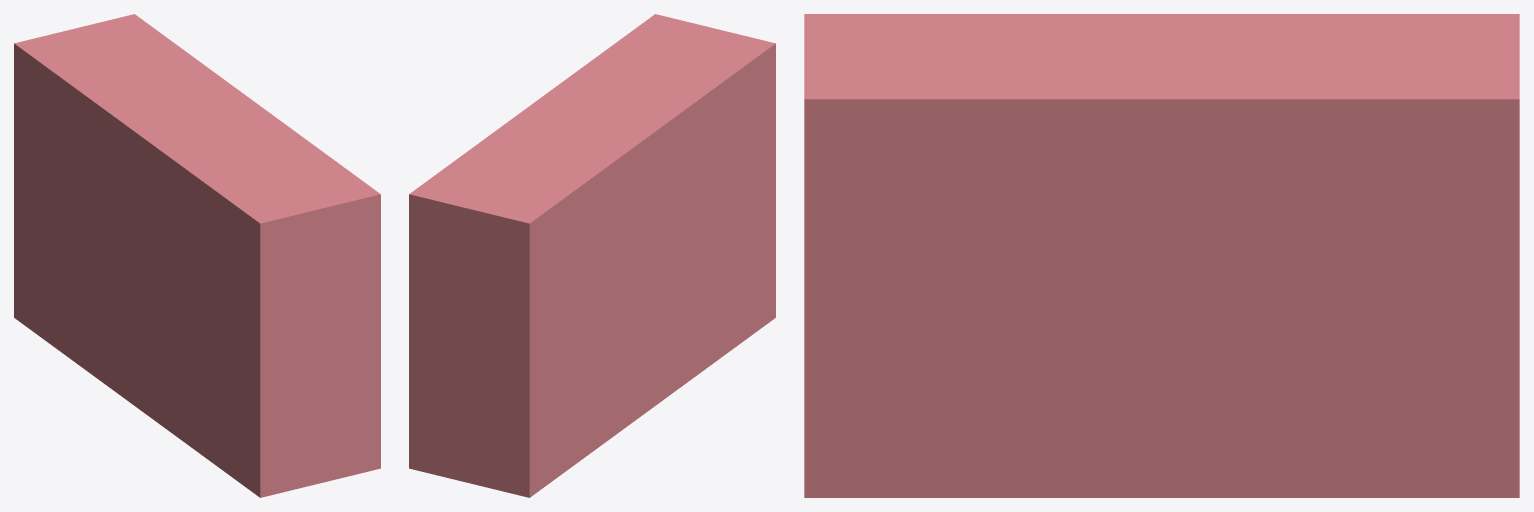
File: BRICK window.fbx
3 renders of one model, left to right at view 1: azimuth 30°, elevation 25°; view 2: azimuth 150°, elevation 25°; view 3: azimuth 270°, elevation 25°, orthographic. The views are drawn at different scales.
Parts seen in each view (by area): view 1: Brick window; view 2: Brick window; view 3: Brick window.
Part boxes in pixels (box(x1,y1,x2,y2)): Brick window: box(14, 14, 380, 497); Brick window: box(409, 14, 775, 497); Brick window: box(804, 14, 1519, 497).
Bounding box in the file's own units: 42.65 × 92.73 × 151.
